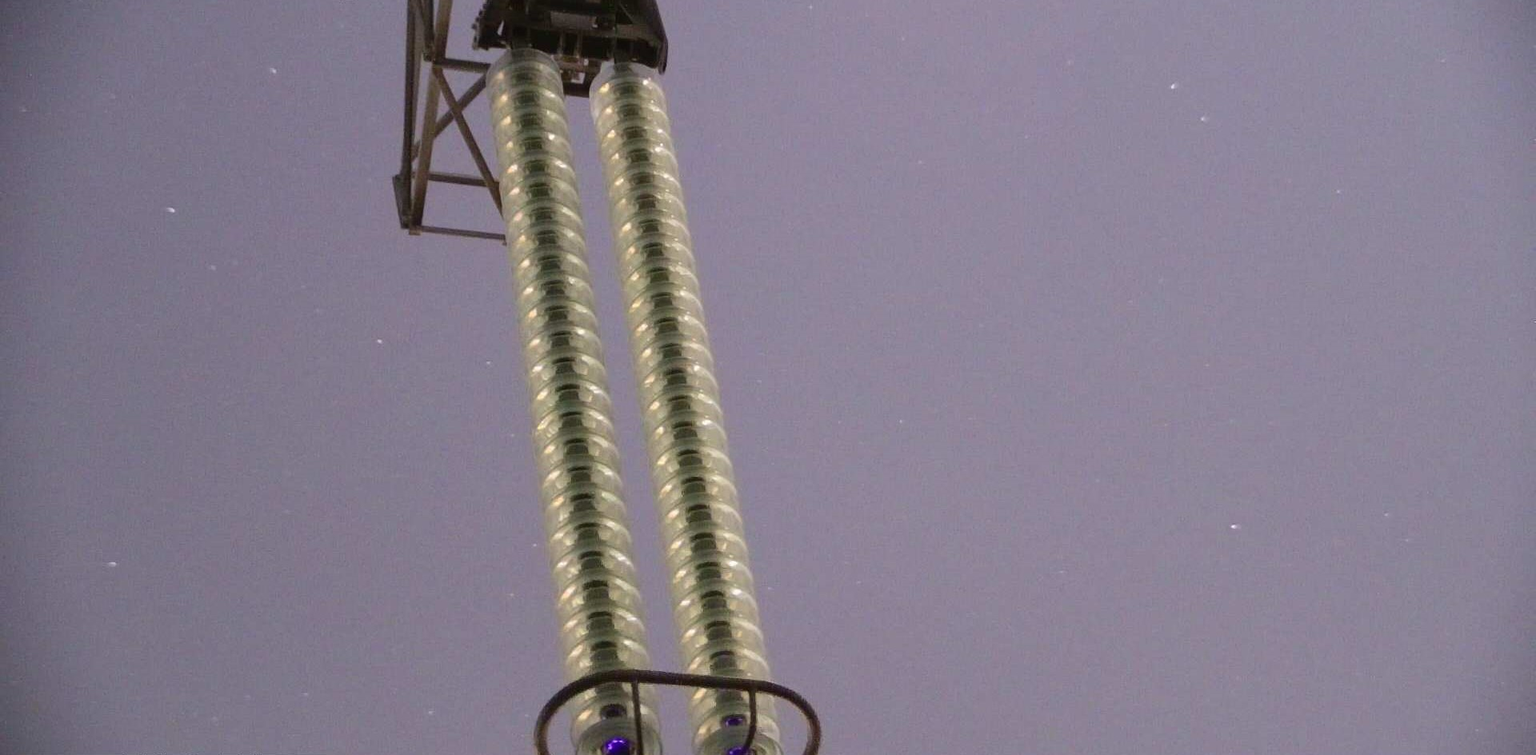绝缘子污闪: (604, 737, 631, 752), (722, 714, 746, 726), (729, 746, 749, 755)
